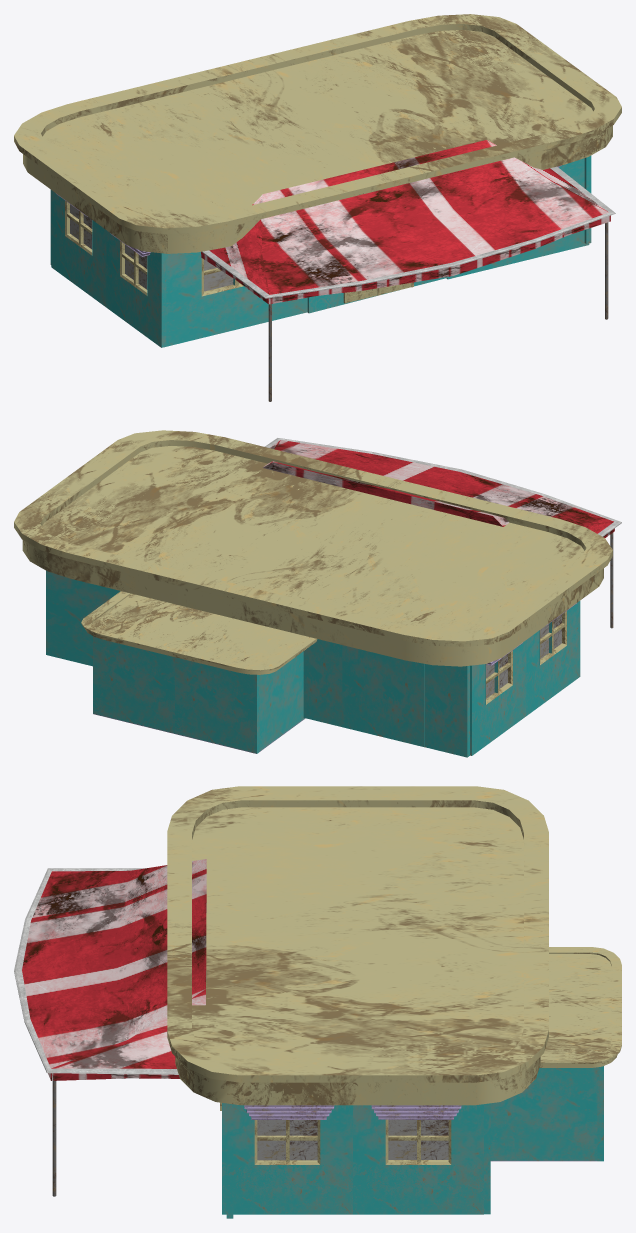
File: restaurant twoo 1.fbx
3 renders of one model, top to bottom at view 1: azimuth 30°, elevation 25°; view 2: azimuth 150°, elevation 25°; view 3: azimuth 270°, elevation 25°, orthographic. The views are drawn at different scales.
Parts seen in each view (by area): view 1: polySurface7, Golf_Canopy_Medium__1___1_, pasted__Window_wall_a, pasted__Window_wall_a__2_, pasted__Window_wall_a__5_, pasted__Window_wall_a__1_, pasted__Window_wall_a__6_; view 2: polySurface7, polySurface7__1_, Golf_Canopy_Medium__1___1_, pasted__Wall__5_, pasted__Wall__10_, pasted__Wall__8_, pasted__Window_wall_a__5_, pasted__Wall__2_, pasted__Wall__6_, pasted__Window_wall_a__2_, pasted__Wall__7_, pasted__Wall__4_ (+1 smaller); view 3: polySurface7, Golf_Canopy_Medium__1___1_, pasted__Window_wall_a__3_, pasted__Window_wall_a__4_, pasted__Wall__9_, polySurface7__1_, pasted__Window_a_3, pasted__Window_a_4, pCube1__2_, pCube1__3_, pasted__Wall__2_, pasted__Wall__8_.
Boxes of the visible parts, x1,y1,x2,y2 form: polySurface7: [14, 14, 621, 253]; Golf_Canopy_Medium__1___1_: [201, 140, 615, 304]; pasted__Window_wall_a: [166, 252, 307, 346]; pasted__Window_wall_a__2_: [106, 230, 166, 347]; pasted__Window_wall_a__5_: [51, 190, 106, 306]; pasted__Window_wall_a__1_: [446, 158, 589, 279]; pasted__Window_wall_a__6_: [307, 277, 448, 313]; polySurface7: [14, 430, 612, 666]; polySurface7__1_: [81, 591, 317, 674]; Golf_Canopy_Medium__1___1_: [263, 438, 621, 537]; pasted__Wall__5_: [342, 645, 424, 747]; pasted__Wall__10_: [175, 657, 259, 753]; pasted__Wall__8_: [93, 636, 174, 733]; pasted__Window_wall_a__5_: [470, 640, 526, 755]; pasted__Wall__2_: [46, 570, 120, 666]; pasted__Wall__6_: [424, 664, 469, 757]; pasted__Window_wall_a__2_: [526, 601, 580, 715]; pasted__Wall__7_: [259, 651, 305, 751]; pasted__Wall__4_: [303, 639, 342, 726]; polySurface7: [167, 786, 548, 1105]; Golf_Canopy_Medium__1___1_: [14, 859, 206, 1080]; pasted__Window_wall_a__3_: [222, 1103, 352, 1214]; pasted__Window_wall_a__4_: [353, 1104, 483, 1214]; pasted__Wall__9_: [490, 1067, 597, 1161]; polySurface7__1_: [539, 947, 621, 1067]; pasted__Window_a_3: [257, 1120, 317, 1160]; pasted__Window_a_4: [388, 1119, 448, 1159]; pCube1__2_: [244, 1105, 334, 1119]; pCube1__3_: [371, 1105, 461, 1119]; pasted__Wall__2_: [484, 1103, 490, 1214]; pasted__Wall__8_: [597, 1066, 603, 1161].
Bounding box in the file's own units: 2334 × 657 × 2075.
